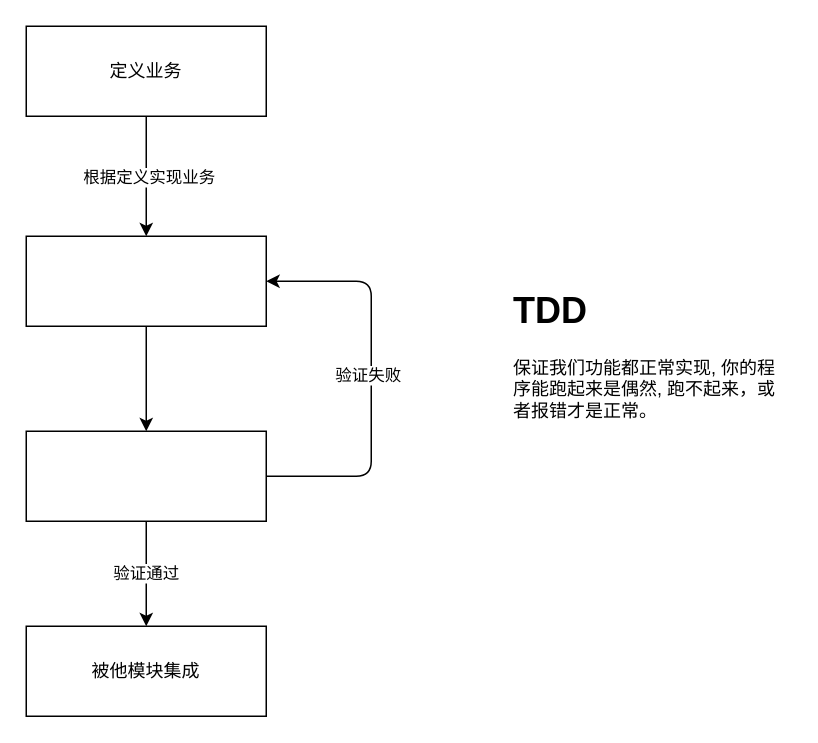
The diagram is 818 pixels wide and 743 high, and some of its shapes have lost their labels. The shapes that lost their labels are listed below. From the top down, each one's centre as x and y in pixels, then its label:
At pixel 145 280: "具体的业务实现".
At pixel 145 475: "验证实现是否正确 单元测试".
